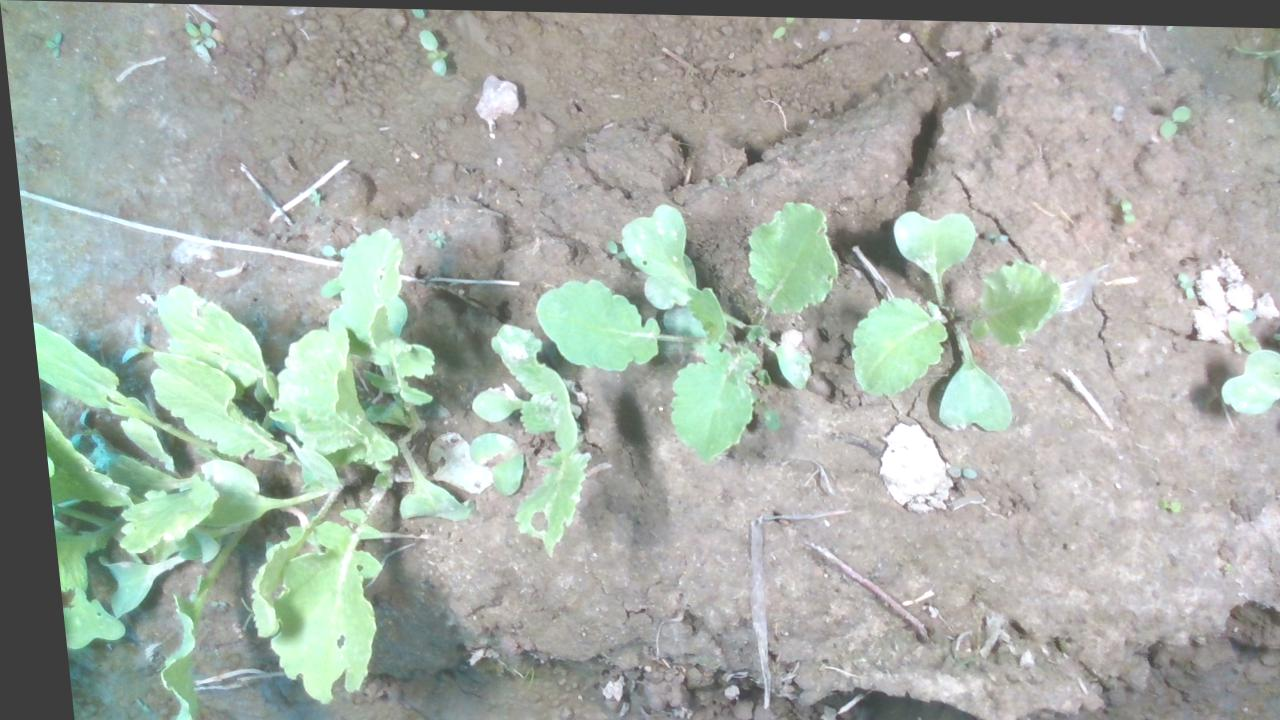weed: (176, 15, 231, 49), (411, 23, 444, 76), (1153, 96, 1193, 139), (34, 25, 69, 54), (1112, 188, 1139, 222), (1146, 490, 1175, 509)
